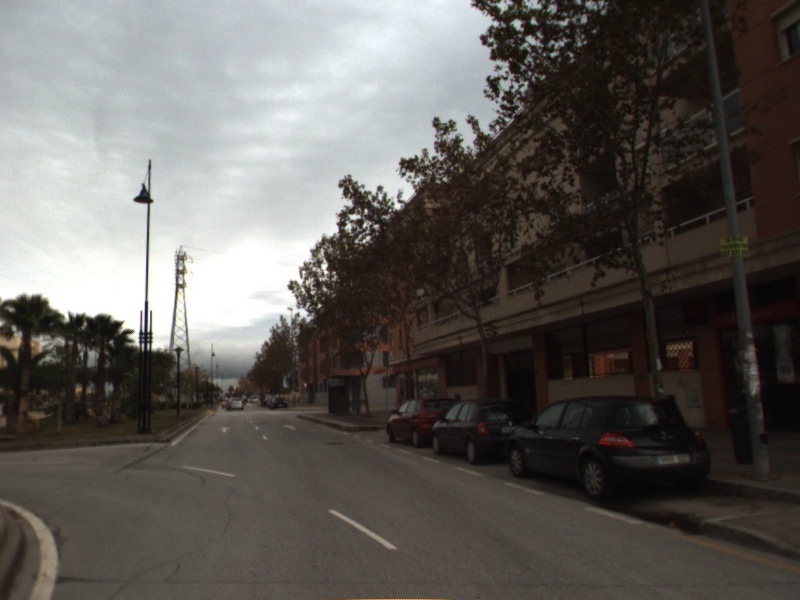STRAIGHT: (281, 422, 299, 432), (217, 424, 233, 435)
